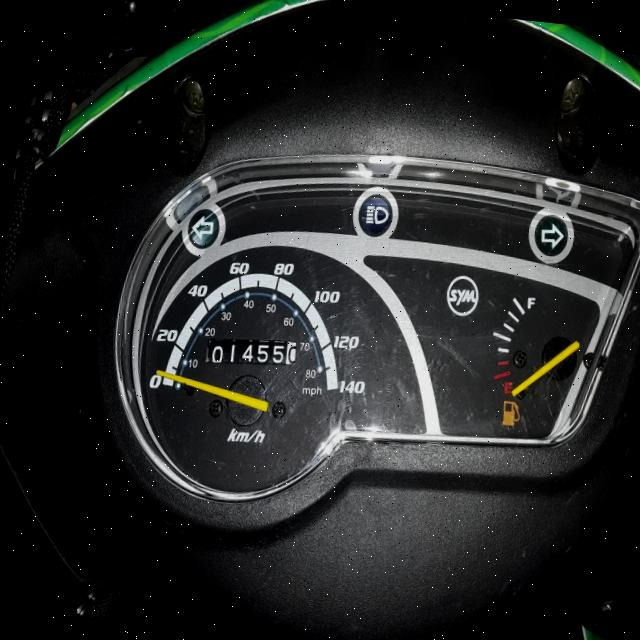odometer: (202, 328, 300, 372)
